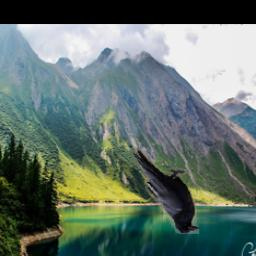Crow: (131, 149, 199, 235)
